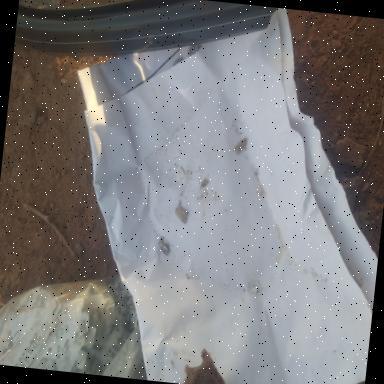pbw: (232, 136, 248, 156), (156, 239, 172, 257), (174, 212, 188, 225), (174, 207, 188, 217)
